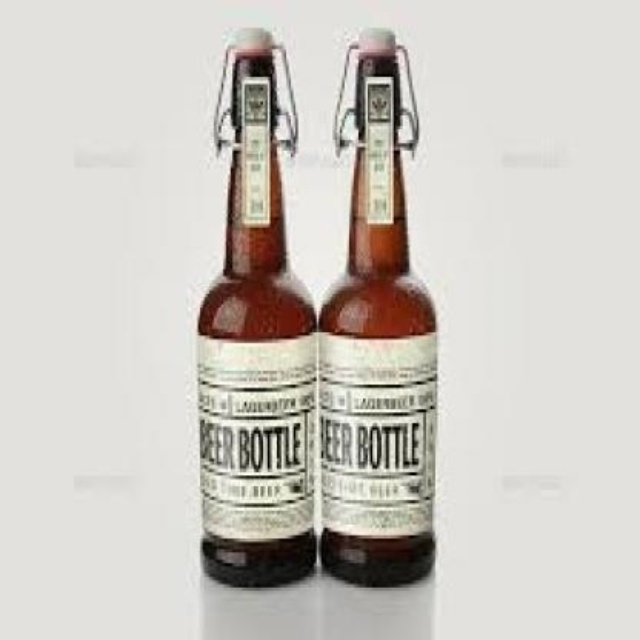trash: (198, 28, 314, 585), (320, 29, 435, 585)
